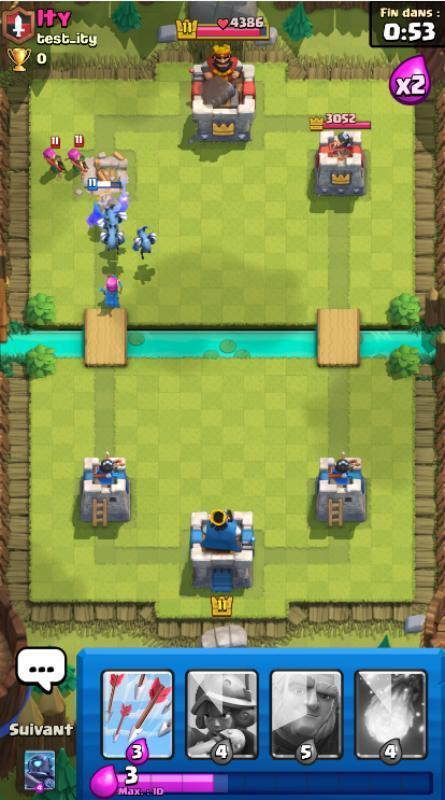enemy_archers: (39, 137, 65, 174), (63, 137, 89, 174)
player_archers: (95, 268, 126, 309)
player_minions: (96, 212, 127, 249), (128, 221, 160, 256)
